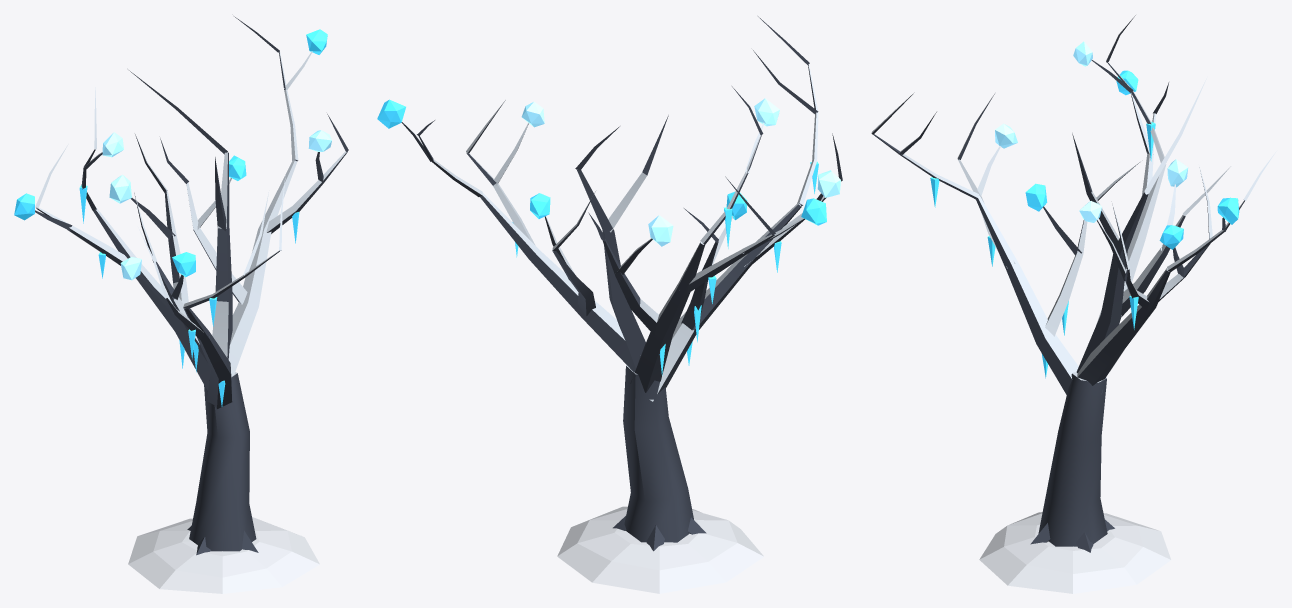
File: frozen_tree.glb
The picture shows the model from 3 angles, left to right: view 1: azimuth 30°, elevation 25°; view 2: azimuth 150°, elevation 25°; view 3: azimuth 270°, elevation 25°; orthographic projection. The views are drawn at different scales.
Parts seen in each view (by area): view 1: frozen_tree; view 2: frozen_tree; view 3: frozen_tree.
Boxes of the visible parts, box(x1,y1,x2,y2) form: frozen_tree: box(14, 16, 348, 593); frozen_tree: box(377, 16, 842, 593); frozen_tree: box(871, 15, 1276, 593).
Size of the model in its own units: 3.15 by 3.98 by 2.97.
